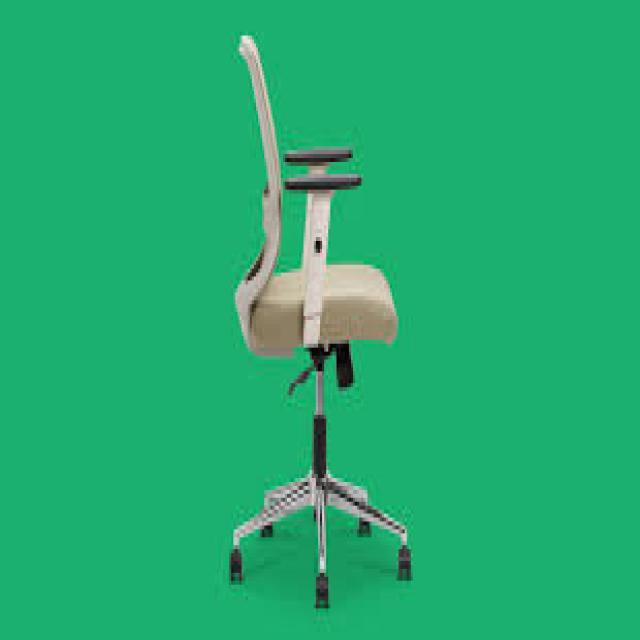chair: (154, 27, 463, 640)
